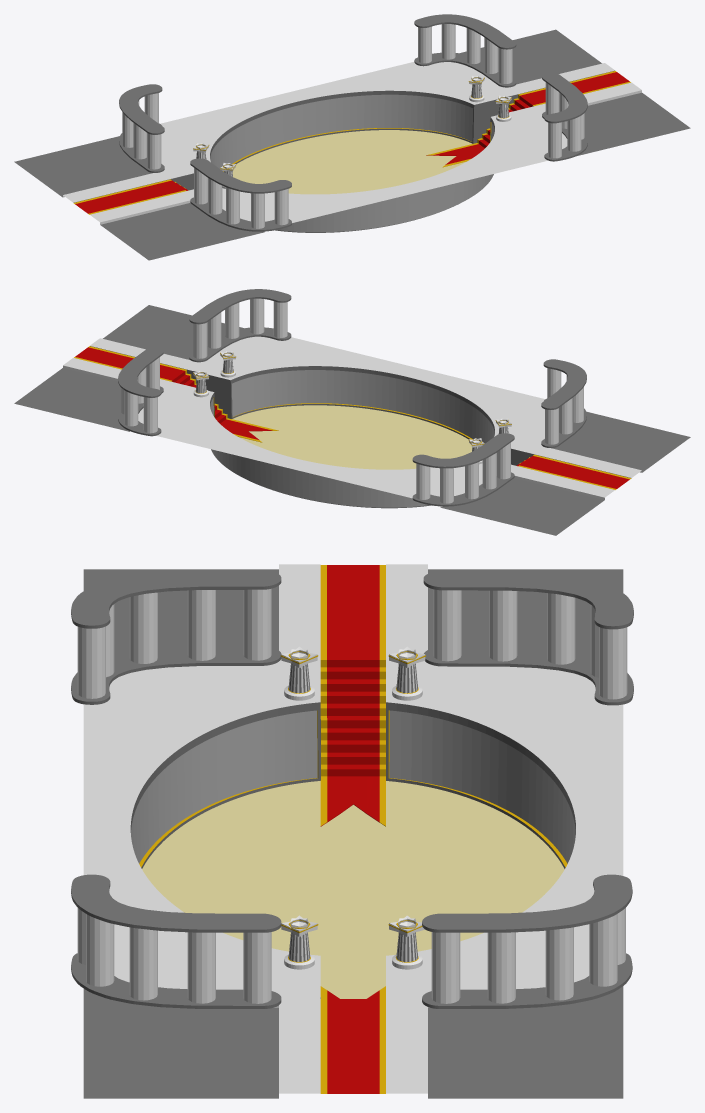
Rendered from Cosmostasia_Arena1.glb.
3 views of the same model, one above another, from view 1: azimuth 30°, elevation 25°; view 2: azimuth 150°, elevation 25°; view 3: azimuth 270°, elevation 25° (orthographic). The views are drawn at different scales.
Parts seen in each view (by area): view 1: MainArena, PillarsNE, PillarsSW, PillarsNW, PillarsSE, TapisW.001; view 2: MainArena, PillarsSE, PillarsNW, PillarsNE, PillarsSW, TapisW.001; view 3: MainArena, PillarsNE, PillarsSE, PillarsNW, PillarsSW, TapisW, BrasierWSW, BrasierWNW, BrasierESE, BrasierENE.
Part boxes in pixels (x1,y1,x2,y2): MainArena: (14,29,690,260); PillarsNE: (414,14,516,87); PillarsSW: (190,158,291,231); PillarsNW: (119,84,164,172); PillarsSE: (542,72,587,161); TapisW.001: (426,143,484,167); MainArena: (14,305,690,535); PillarsSE: (189,289,291,362); PillarsNW: (412,433,514,506); PillarsNE: (118,347,163,436); PillarsSW: (541,359,586,448); TapisW.001: (220,418,278,442); MainArena: (83,564,623,1098); PillarsNE: (422,874,632,1008); PillarsSE: (71,874,281,1008); PillarsNW: (423,571,633,705); PillarsSW: (71,570,281,704); TapisW: (320,776,385,826); BrasierWSW: (280,646,318,700); BrasierWNW: (388,646,425,700); BrasierESE: (281,915,318,969); BrasierENE: (388,915,424,969).
Size of the model in its own units: 29.2 by 4.05 by 13.13.
